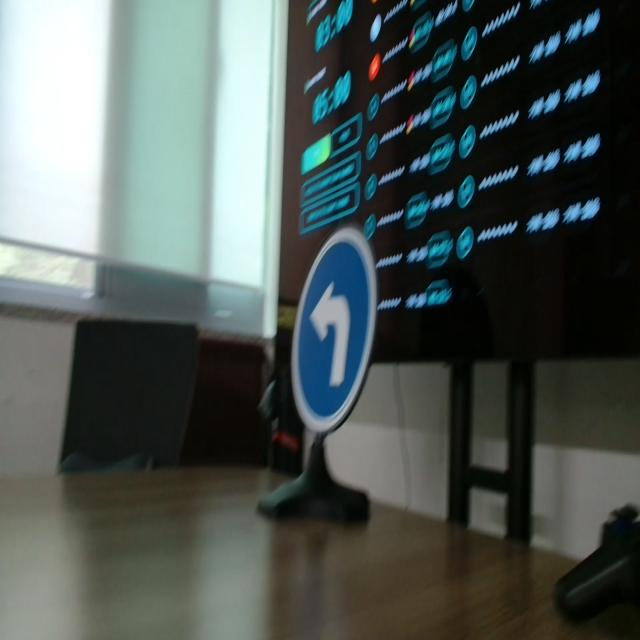left_direction: (288, 228, 400, 452)
